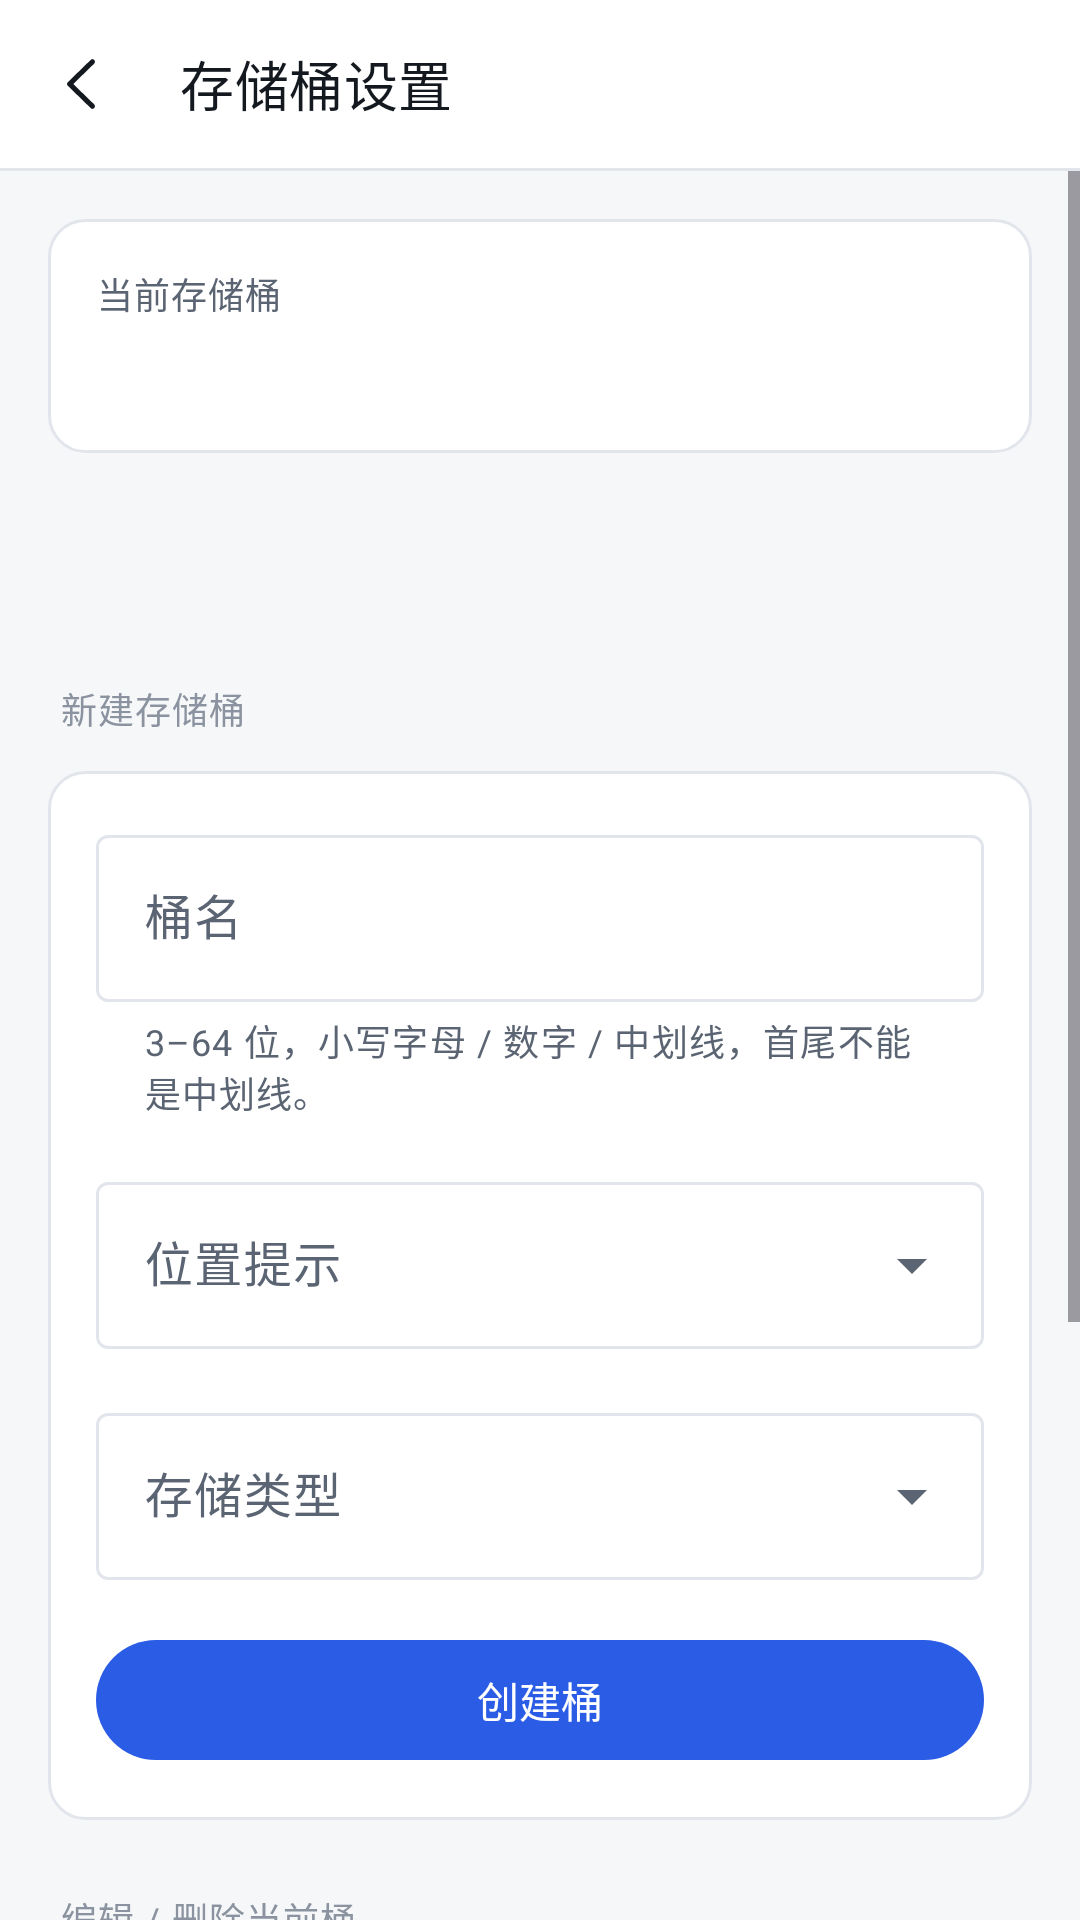

Icon click points for this 1080 × 1920 phone screenshot, format (x=x, y=y):
返回: (x=81, y=84)
